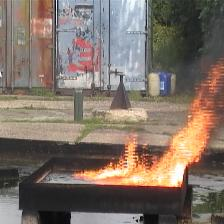fire: (73, 57, 224, 188)
